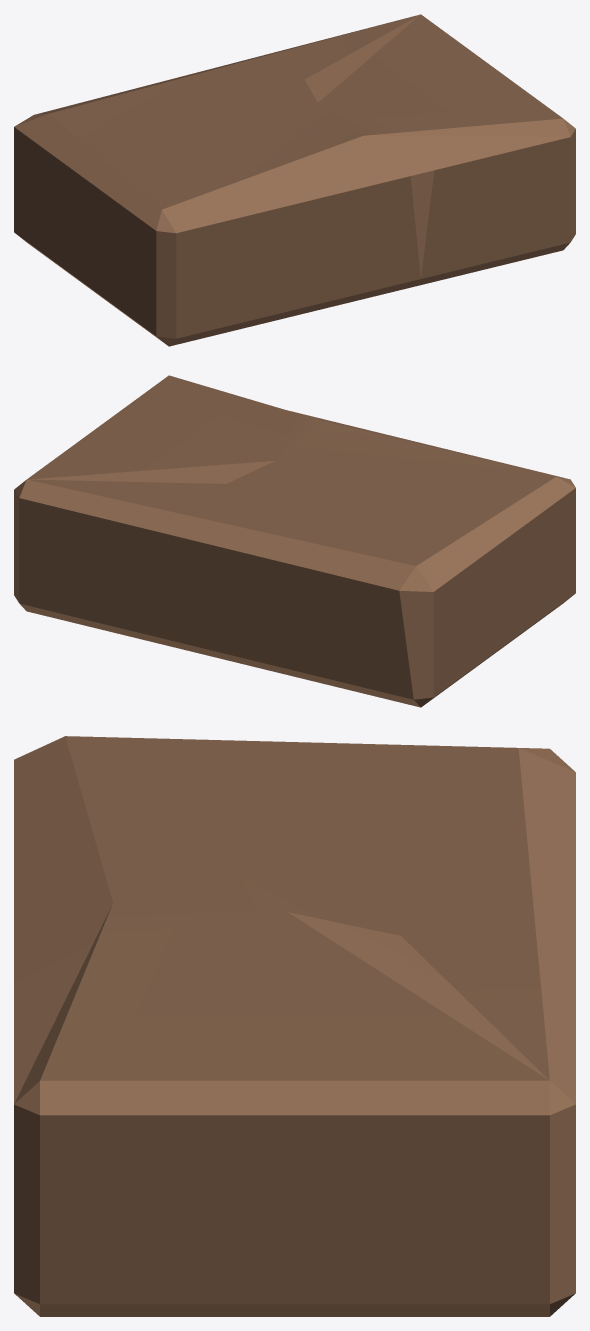
Rendered from Brown_Ingot.fbx.
3 renders of one model, top to bottom at view 1: azimuth 30°, elevation 25°; view 2: azimuth 150°, elevation 25°; view 3: azimuth 270°, elevation 25°, orthographic. The views are drawn at different scales.
Parts seen in each view (by area): view 1: Brown_Ingot; view 2: Brown_Ingot; view 3: Brown_Ingot.
Part boxes in pixels (box(x1,y1,x2,y2)): Brown_Ingot: box(14, 14, 575, 346); Brown_Ingot: box(14, 375, 575, 707); Brown_Ingot: box(14, 736, 575, 1316).
Size of the model in its own units: 24.49 by 8 by 15.86.
